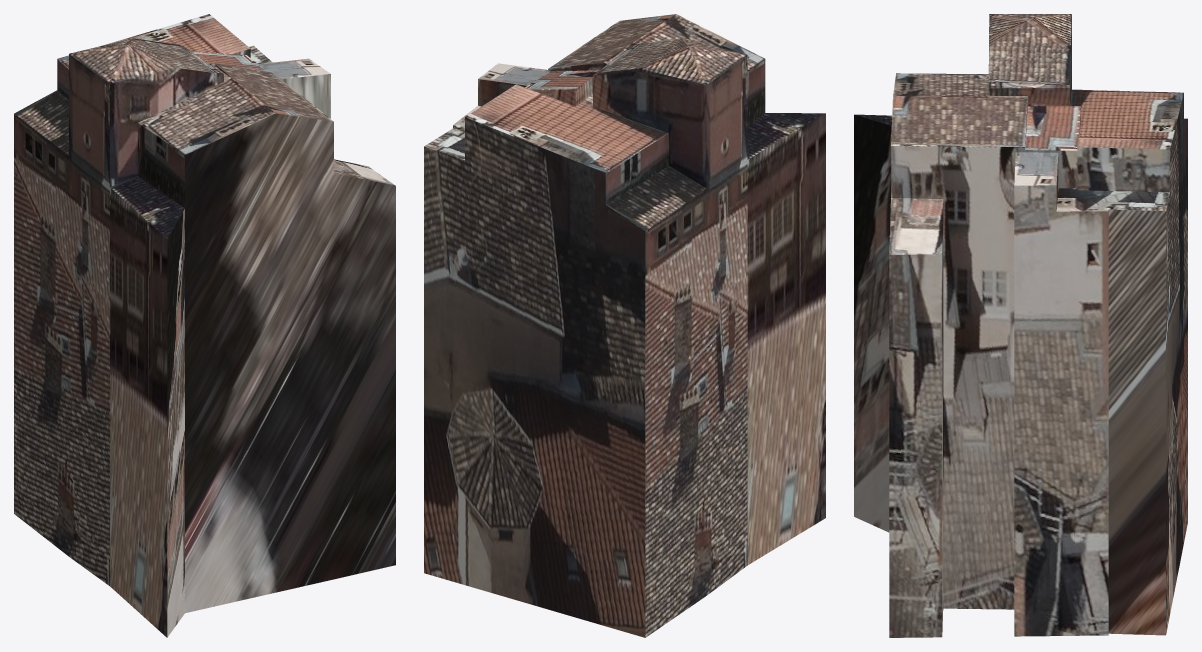
3 views of the same model, side by side, from view 1: azimuth 30°, elevation 25°; view 2: azimuth 150°, elevation 25°; view 3: azimuth 270°, elevation 25° (orthographic).
Visible parts, largest first — view 1: Z_UP; view 2: Z_UP; view 3: Z_UP.
Boxes of the visible parts, x1=… form: Z_UP: x1=14, y1=14, x2=395, y2=637; Z_UP: x1=424, y1=14, x2=825, y2=637; Z_UP: x1=854, y1=14, x2=1187, y2=637.
Bounding box in the file's own units: 11.77 × 23.64 × 13.7.
2 materials, 1 textured.
